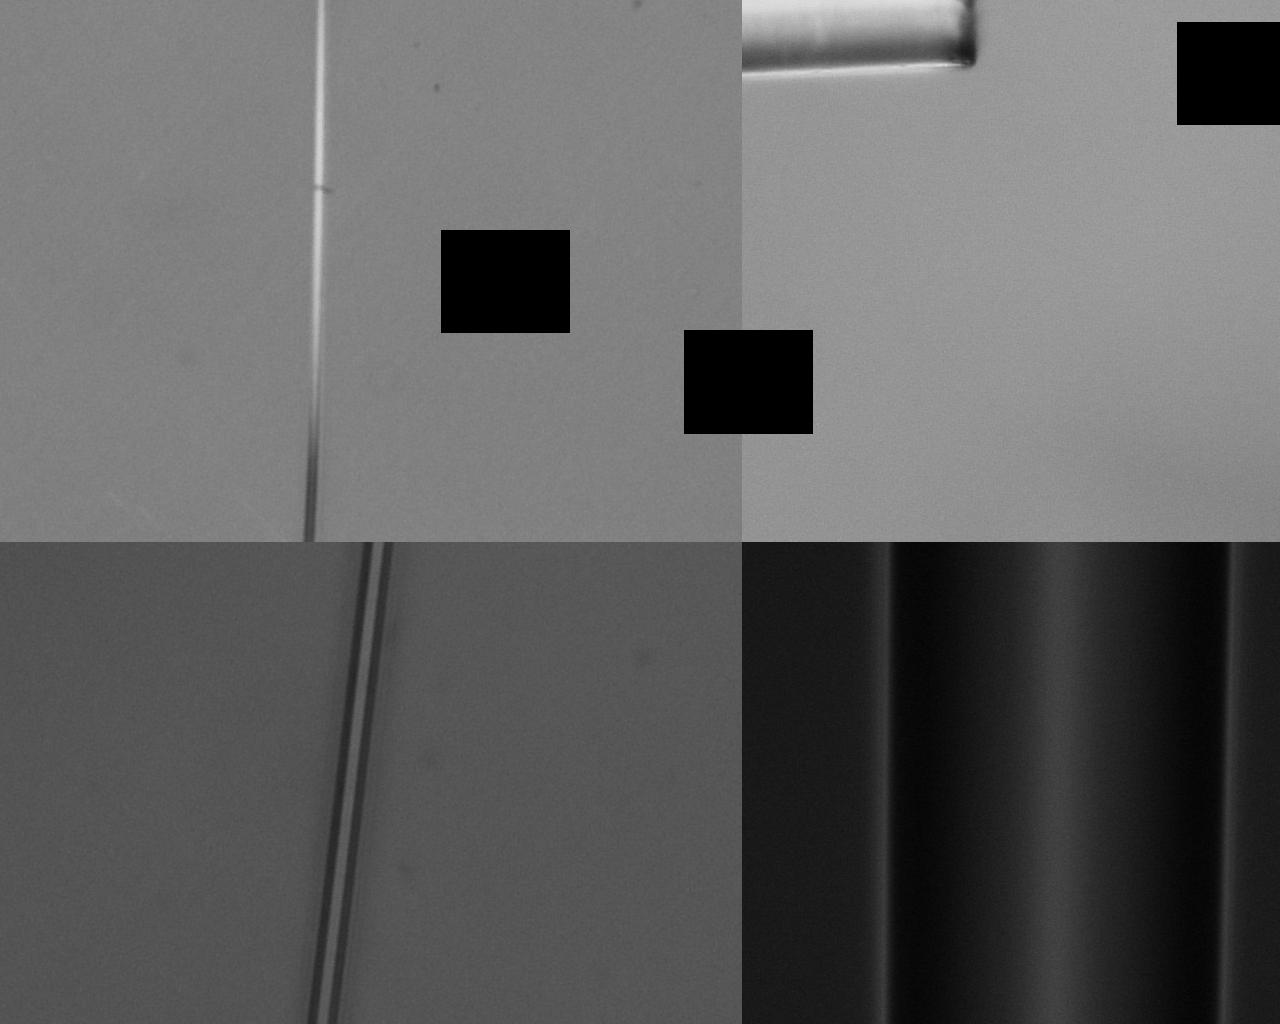fiber: (880, 542, 1237, 1024), (305, 542, 395, 1024), (303, 0, 327, 542)
